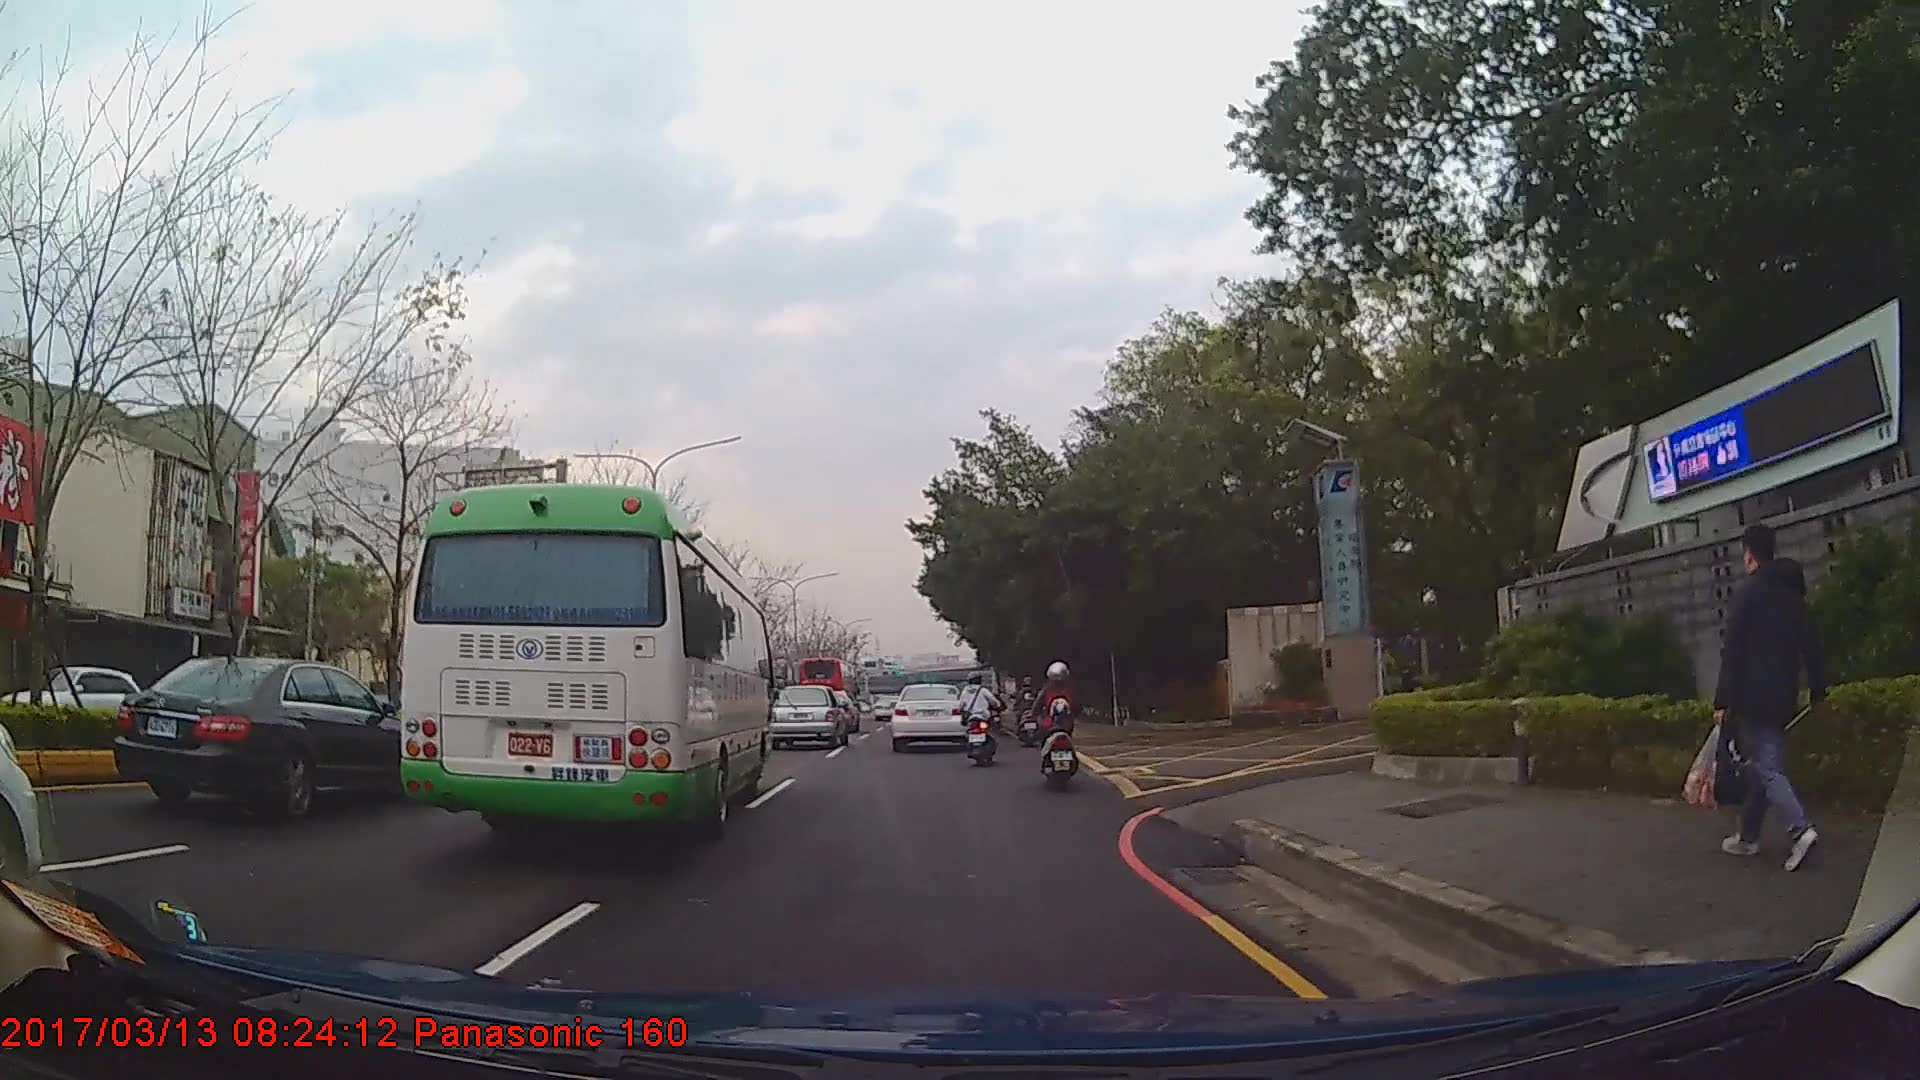pedestrian: (1685, 528, 1834, 862)
rider: (1039, 666, 1081, 795), (956, 677, 997, 772), (1014, 677, 1043, 751)
vehicle: (388, 485, 770, 850), (112, 656, 437, 826), (0, 660, 148, 745), (889, 681, 967, 752), (771, 684, 850, 748), (795, 657, 857, 720)
